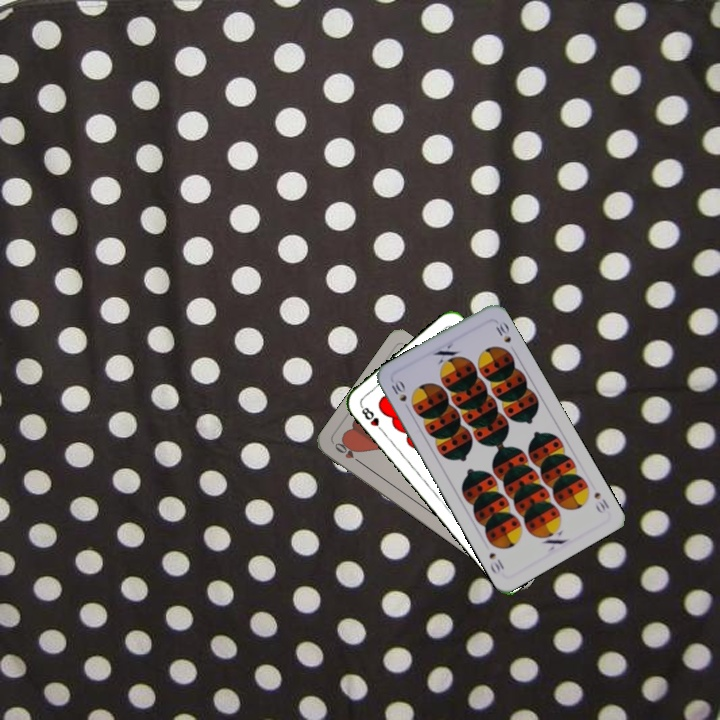H8: (356, 402, 387, 436)
HO: (330, 438, 366, 467)
S10: (387, 375, 413, 413), (590, 488, 612, 516)
